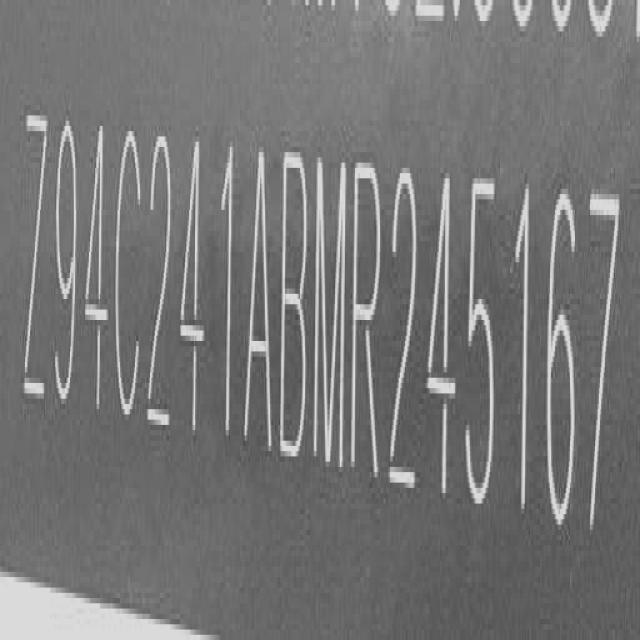1: (512, 180, 534, 530), (223, 140, 239, 455)
2: (390, 158, 423, 496), (145, 127, 173, 442)
4: (178, 131, 210, 445), (429, 169, 458, 511), (85, 115, 112, 422)
5: (463, 170, 497, 519)
6: (544, 180, 578, 536)
7: (592, 186, 624, 542)
9: (49, 115, 78, 414)
A: (246, 142, 274, 458)
B: (281, 142, 313, 465)
C: (116, 116, 142, 428)
M: (313, 150, 348, 476)
R: (350, 158, 386, 490)
Z: (21, 106, 48, 407)
